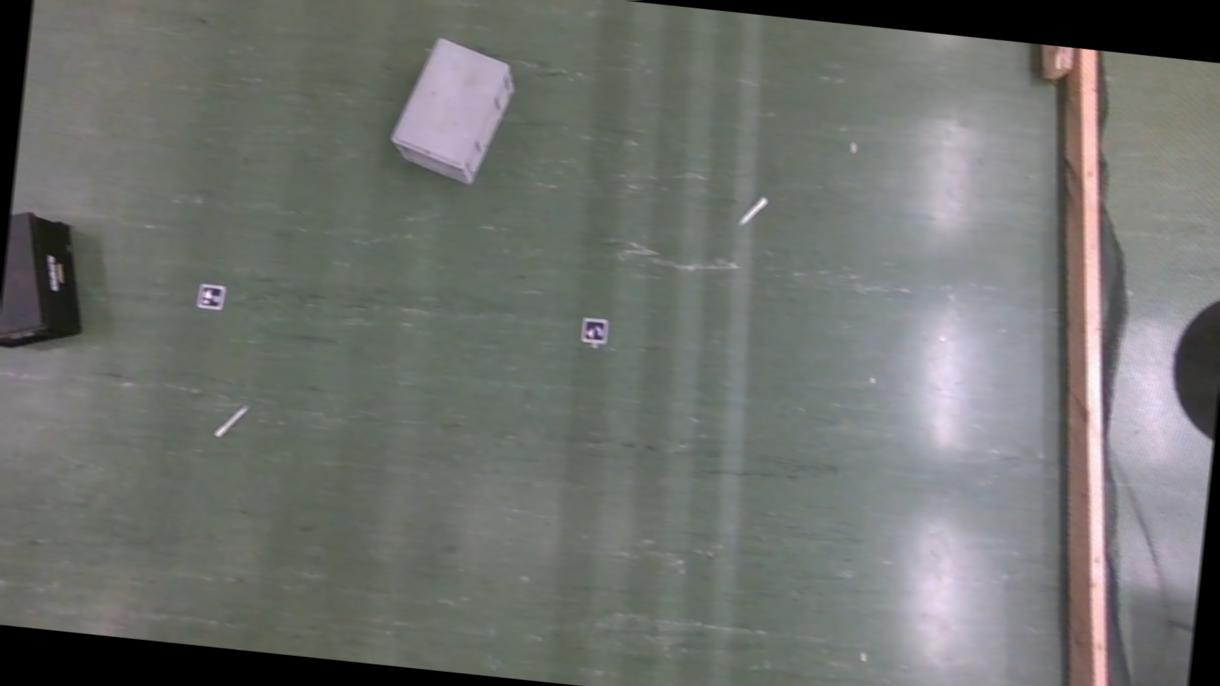probes: (214, 401, 247, 438), (738, 193, 766, 226)
rako: (386, 29, 522, 191), (0, 209, 93, 355)
